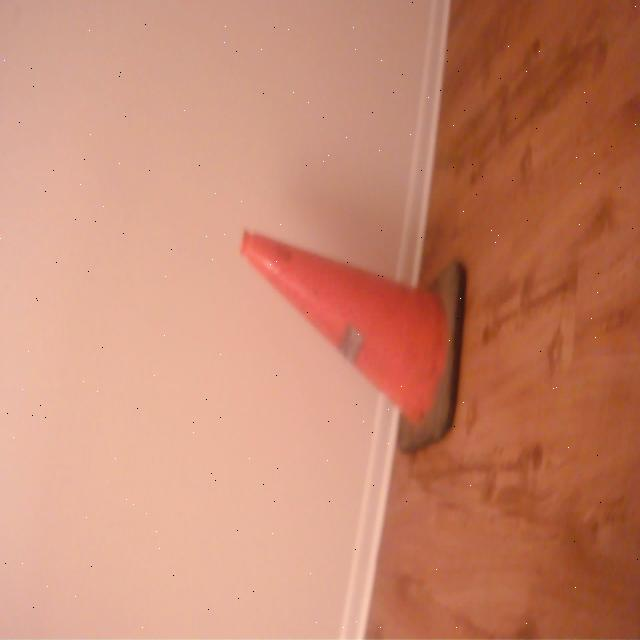traffic cone: (235, 222, 469, 462)
